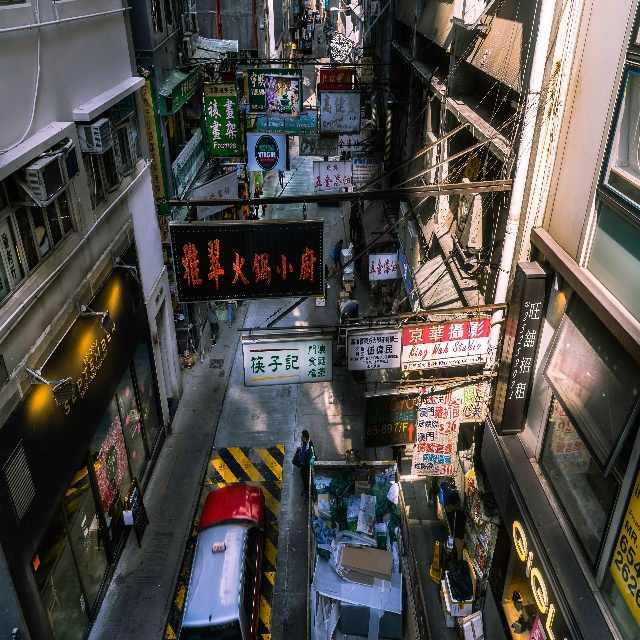Guantes: (309, 457, 314, 467)
